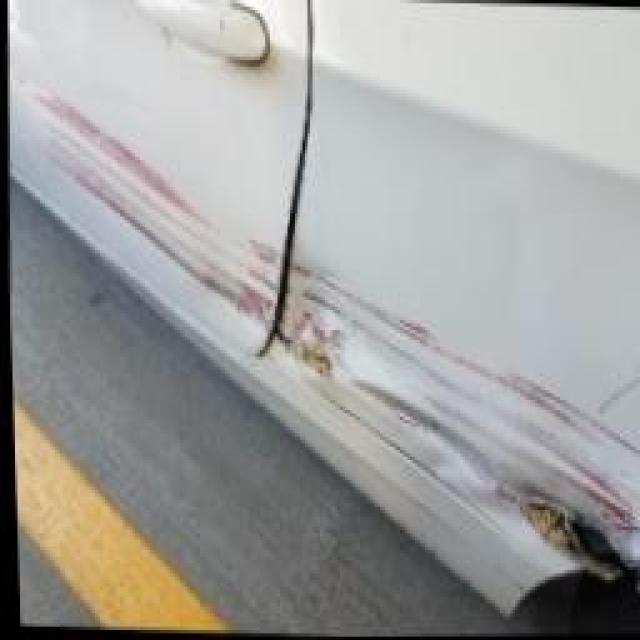Door: (255, 247, 640, 613), (8, 53, 287, 332)
